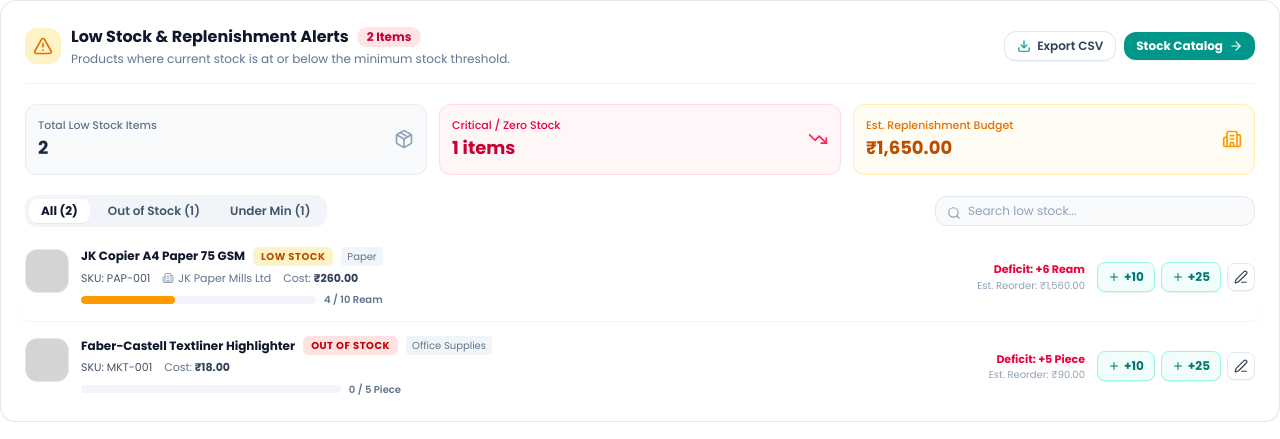
LowStockWidget › filters items when search input is typed
Type "Copier" into the field with placeholder "Search low stock..." at (1095, 210), box [935,196,1255,226]
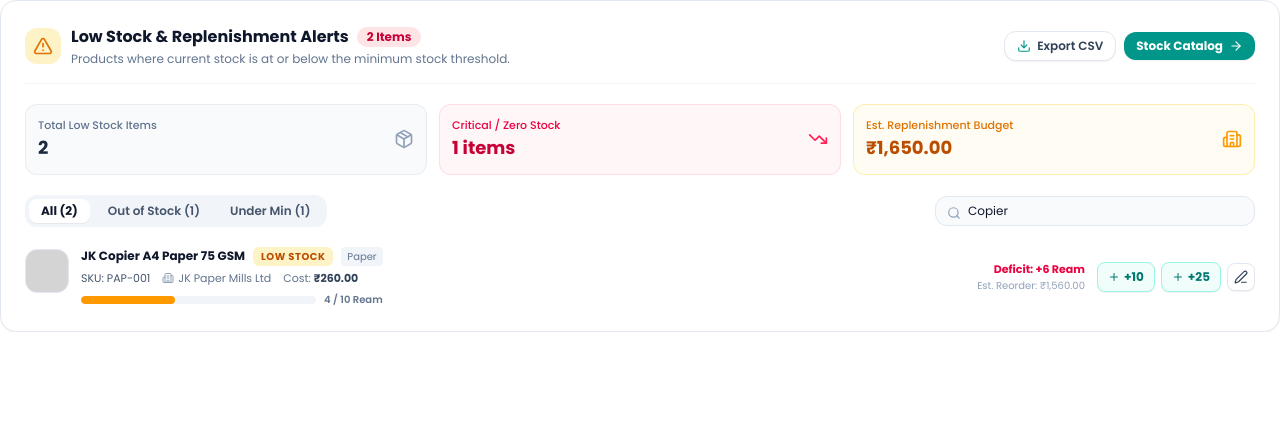
Expected: the text "JK Copier A4 Paper 75 GSM" is shown, [81,248,245,264]
Result: the text "Faber-Castell Textliner Highlighter" is gone
